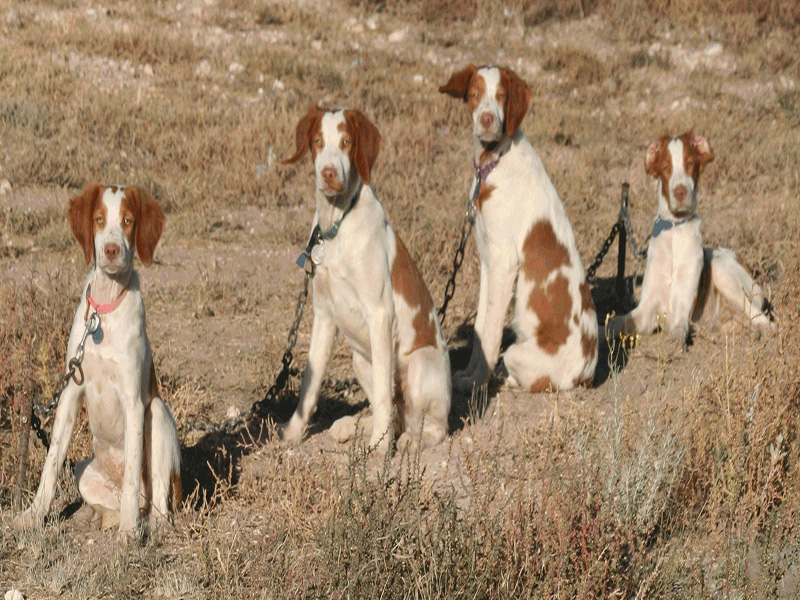cane da caccia: (285, 99, 460, 478), (449, 59, 605, 415), (44, 184, 195, 545), (642, 121, 775, 358)
